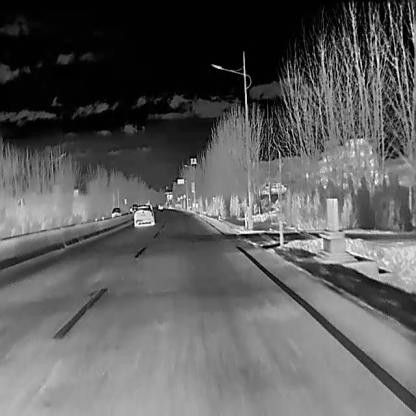car: (133, 204, 154, 227), (111, 206, 122, 218), (158, 202, 162, 208)
